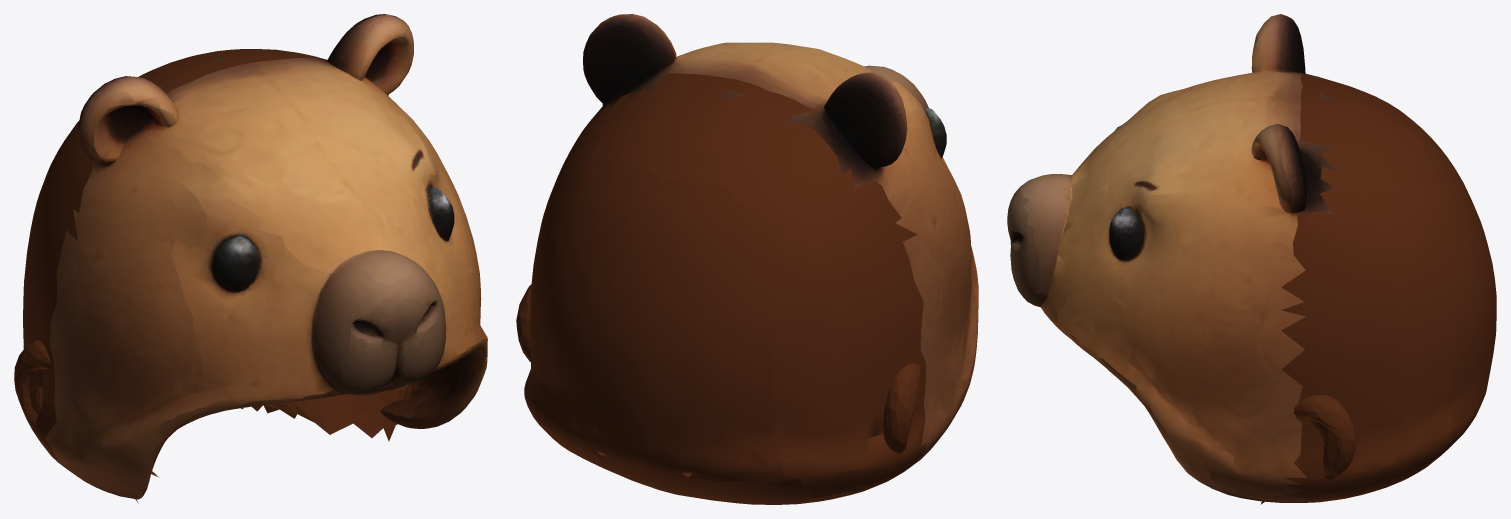
File: capybara.glb
3 renders of one model, left to right at view 1: azimuth 30°, elevation 25°; view 2: azimuth 150°, elevation 25°; view 3: azimuth 270°, elevation 25°, orthographic. The views are drawn at different scales.
Visible parts, largest first — view 1: geometry_0, HoodAnatomicalLining; view 2: geometry_0, HoodAnatomicalLining; view 3: geometry_0, HoodAnatomicalLining.
Boxes of the visible parts, box(x1,y1,x2,y2) form: geometry_0: box(21, 14, 487, 499); HoodAnatomicalLining: box(14, 340, 420, 503); geometry_0: box(524, 14, 978, 504); HoodAnatomicalLining: box(516, 284, 921, 453); geometry_0: box(1007, 14, 1496, 502); HoodAnatomicalLining: box(1260, 395, 1356, 504).
Size of the model in its own units: 0.4751 by 0.4657 by 0.5482.
2 materials, 1 textured.
